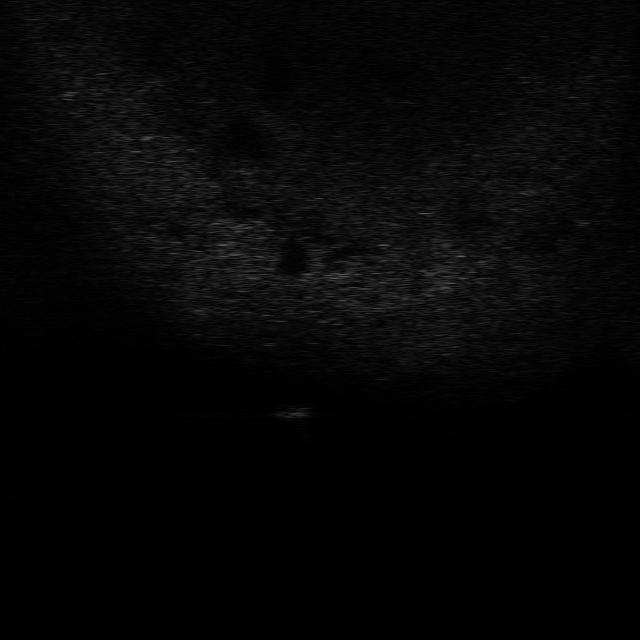cube: (269, 404, 311, 419)
